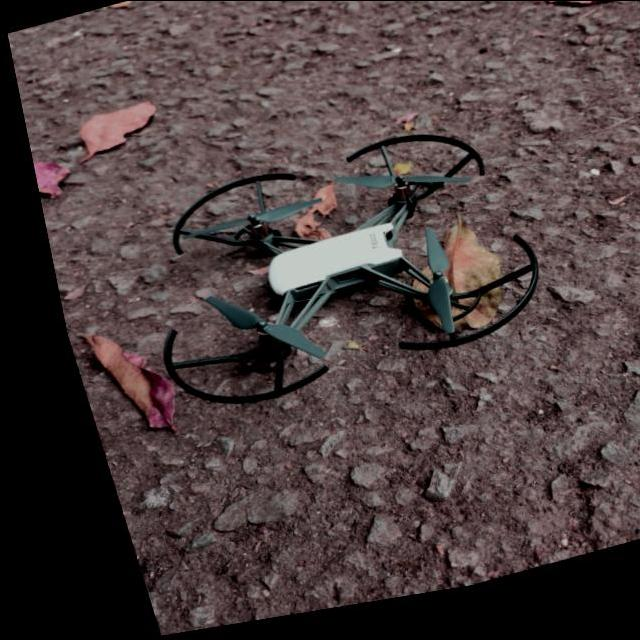drone: (140, 138, 532, 413)
